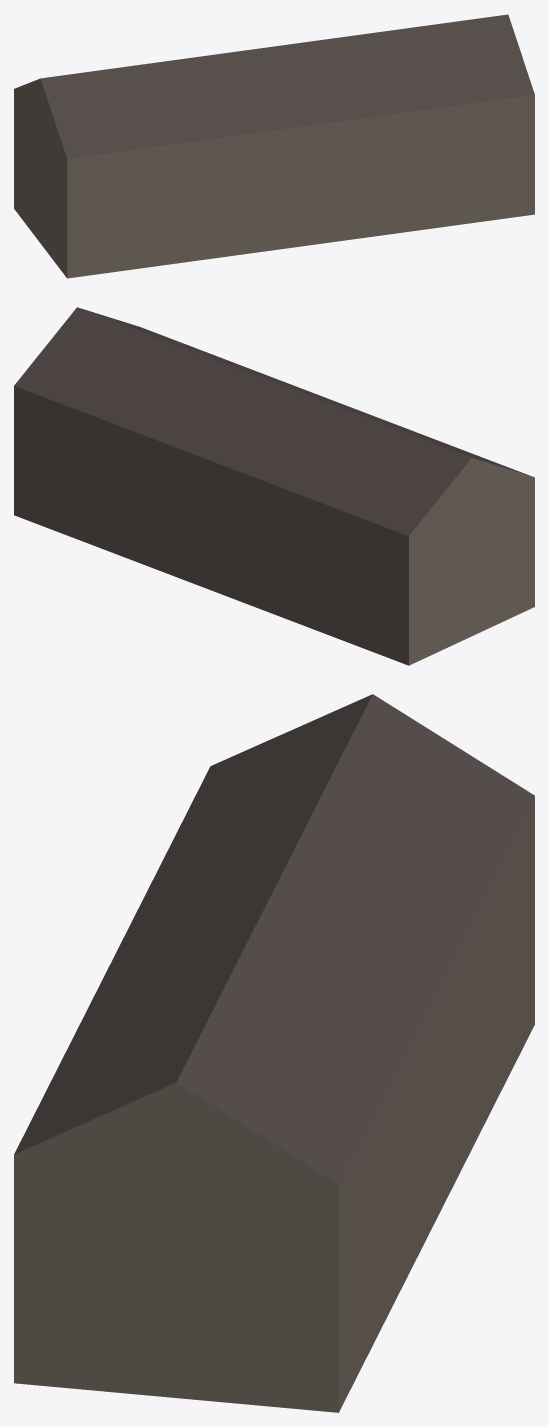
3 renders of one model, top to bottom at view 1: azimuth 30°, elevation 25°; view 2: azimuth 150°, elevation 25°; view 3: azimuth 270°, elevation 25°, orthographic. The views are drawn at different scales.
Visible parts, largest first — view 1: HP-w859488858; view 2: HP-w859488858; view 3: HP-w859488858.
Boxes of the visible parts, x1,y1,x2,y2 form: HP-w859488858: [14, 14, 534, 278]; HP-w859488858: [14, 307, 534, 665]; HP-w859488858: [14, 694, 534, 1412].
Bounding box in the file's own units: 35.27 × 12.42 × 18.58.
